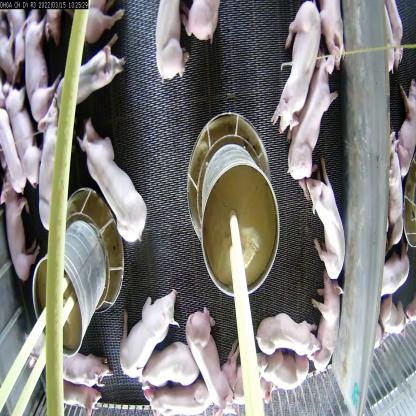Pig: (42, 44, 128, 124), (76, 122, 144, 223), (288, 50, 334, 186), (274, 0, 316, 133), (118, 293, 177, 373), (186, 304, 227, 416), (247, 348, 316, 407), (307, 171, 346, 270), (255, 303, 317, 359), (152, 0, 191, 85), (5, 82, 41, 173), (22, 8, 56, 102), (0, 187, 38, 270), (140, 342, 200, 394), (36, 102, 64, 202), (315, 278, 340, 378), (223, 345, 265, 403), (315, 0, 347, 62), (152, 388, 214, 415)
